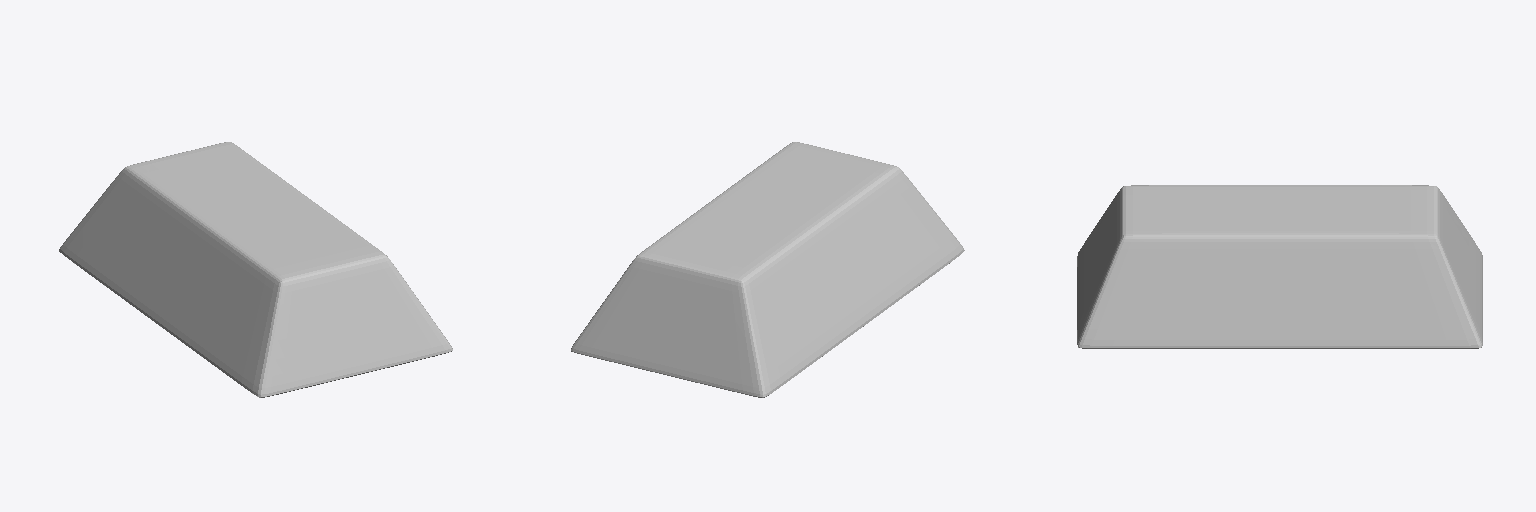
Rendered from gold_bar.obj.
3 views of the same model, side by side, from view 1: azimuth 30°, elevation 25°; view 2: azimuth 150°, elevation 25°; view 3: azimuth 270°, elevation 25° (orthographic).
Visible parts, largest first — view 1: Cube; view 2: Cube; view 3: Cube.
Boxes of the visible parts, <box> form: Cube: <box>59,142,452,397</box>; Cube: <box>571,142,964,397</box>; Cube: <box>1077,185,1482,348</box>.
Size of the model in its own units: 1.11 by 0.4976 by 1.98.